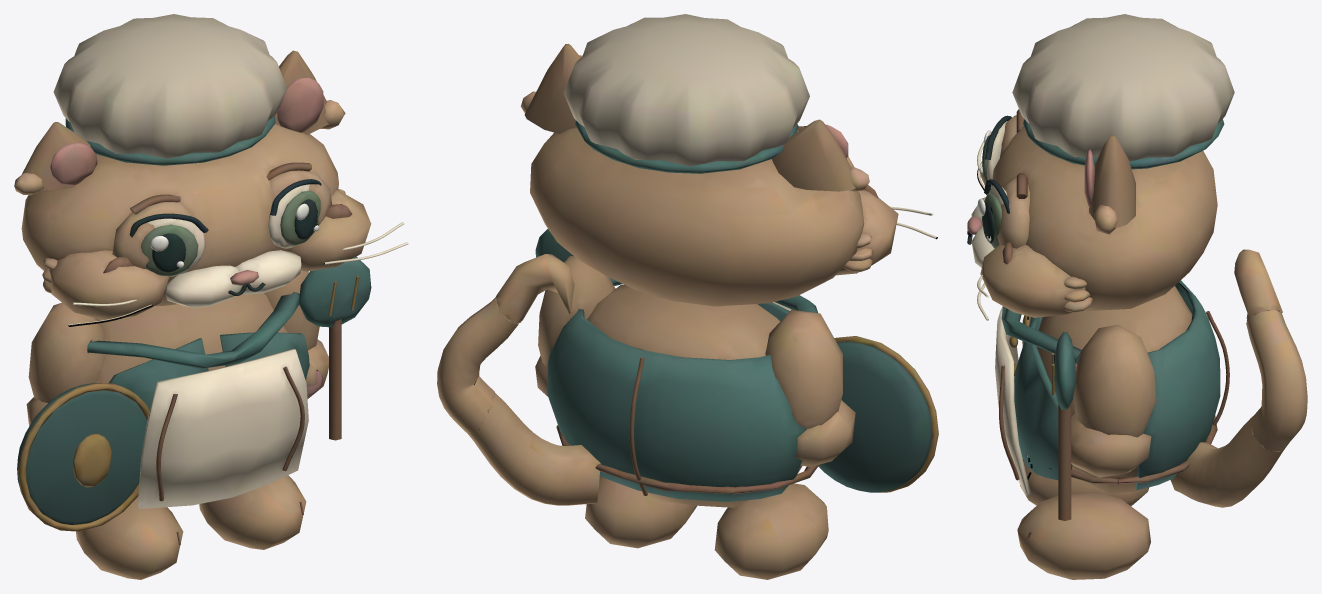
File: panko.glb
The picture shows the model from 3 angles, left to right: view 1: azimuth 30°, elevation 25°; view 2: azimuth 150°, elevation 25°; view 3: azimuth 270°, elevation 25°; orthographic projection. The views are drawn at different scales.
Parts seen in each view (by area): view 1: cheek-head, pear-body, ceramic-serving-shield, porcelain-eye, hind-paw, arm, bread-paddle-handle, hind-paw.001, rounded-ear-L, rounded-ear-R, arm.001, nose; view 2: cheek-head, pear-body, ceramic-serving-shield, arm, hind-paw, tail-root, tail-mid, hind-paw.001, rounded-ear-L, arm.001, tail-tip, rounded-ear-R; view 3: cheek-head, pear-body, arm.001, hind-paw.001, tail-mid, tail-root, rounded-ear-R, bread-paddle-handle, porcelain-eye, tail-tip, hind-paw.
Part boxes in pixels (x1,y1,x2,y2): cheek-head: (21,14,408,326); pear-body: (87,292,309,508); ceramic-serving-shield: (17,383,149,531); porcelain-eye: (129,179,321,276); hind-paw: (76,496,183,579); arm: (26,302,105,426); bread-paddle-handle: (298,256,371,440); hind-paw.001: (199,475,306,549); rounded-ear-L: (14,122,100,195); rounded-ear-R: (274,50,345,134); arm.001: (264,270,328,398); nose: (228,270,265,295); cheek-head: (530,14,937,306); pear-body: (547,277,819,507); ceramic-serving-shield: (818,336,938,492); arm: (765,309,855,466); hind-paw: (714,483,828,579); tail-root: (467,393,600,505); tail-mid: (437,297,519,433); hind-paw.001: (585,475,696,548); rounded-ear-L: (772,119,869,191); arm.001: (535,256,615,396); tail-tip: (496,254,574,324); rounded-ear-R: (520,44,582,133); cheek-head: (971,14,1234,320); pear-body: (995,280,1229,495); arm.001: (1071,324,1156,477); hind-paw.001: (1017,492,1150,579); tail-mid: (1246,310,1307,451); tail-root: (1170,415,1288,507); rounded-ear-R: (1084,135,1135,234); bread-paddle-handle: (1051,332,1076,520); porcelain-eye: (977,115,1011,248); tail-tip: (1234,249,1282,320); hind-paw: (1020,458,1149,506).
Bounding box in the file's own units: 1.11 × 1.46 × 0.8881.
Materials: 1 (1 with a texture image).
